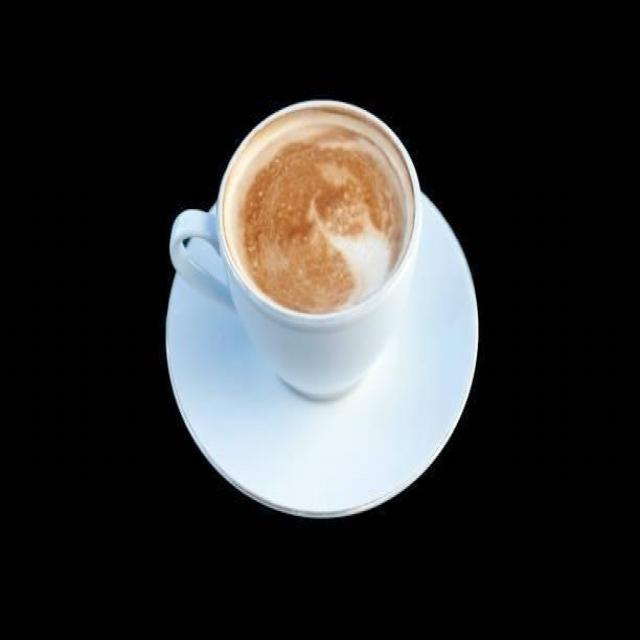cup-handle: (168, 98, 424, 402)
